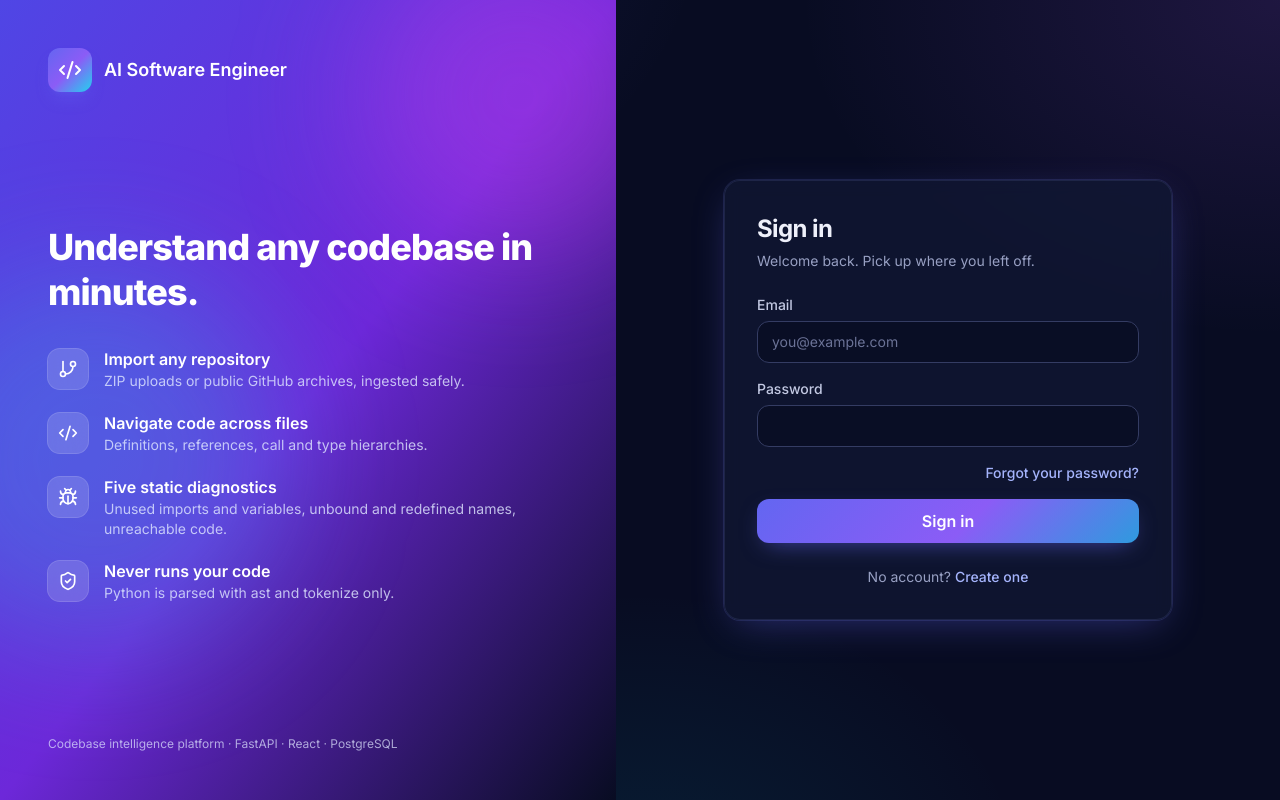
Test: forgot password › links to the reset page from sign-in
The image size is (1280, 800).
Click the link "Forgot your password?". click: coordinates (1062, 473)
box: [985,463,1139,483]
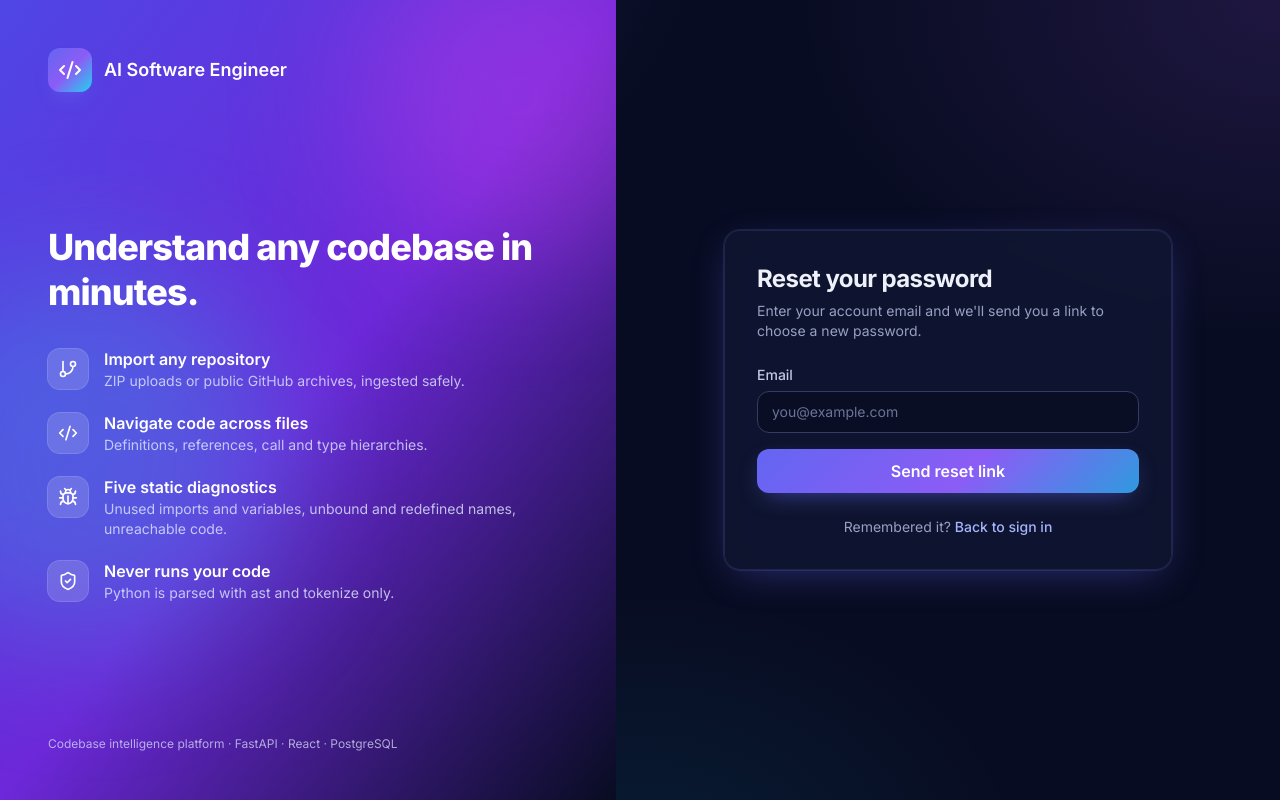
Result: the heading "Reset your password" is shown at [757,264,992,293]
